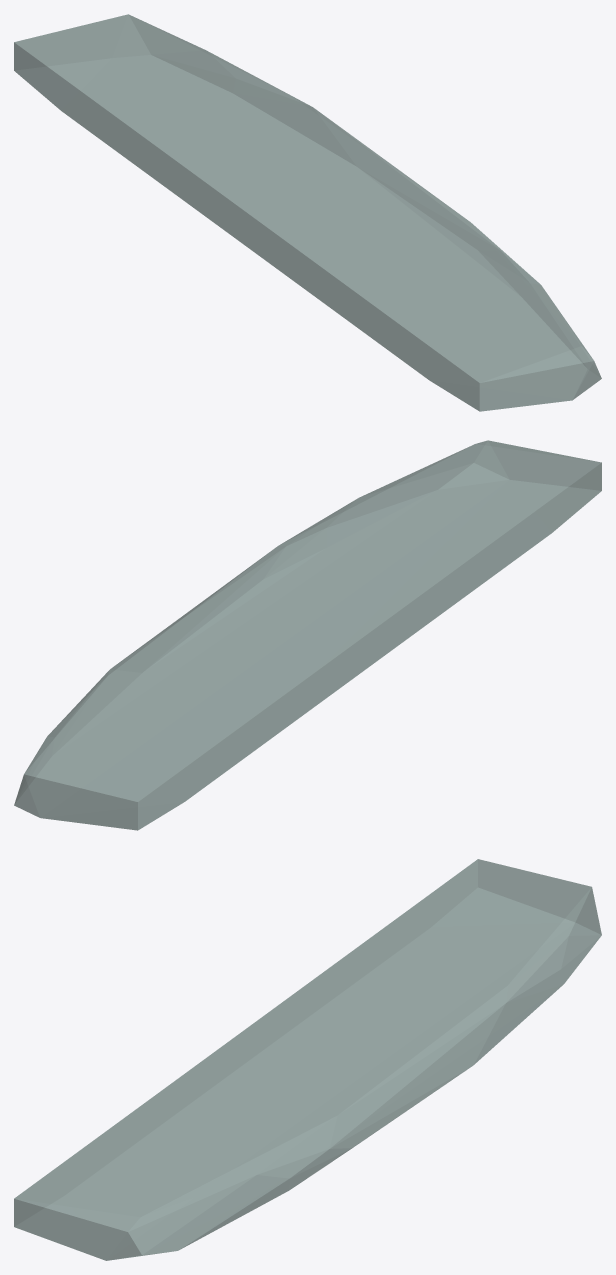
3 views of the same model, one above another, from view 1: azimuth 30°, elevation 25°; view 2: azimuth 150°, elevation 25°; view 3: azimuth 330°, elevation 25° (orthographic).
Visible parts, largest first — view 1: Shape_IndexedFaceSet.010_Shape_IndexedFaceSet.1949; view 2: Shape_IndexedFaceSet.010_Shape_IndexedFaceSet.1949; view 3: Shape_IndexedFaceSet.010_Shape_IndexedFaceSet.1949.
Boxes of the visible parts, x1=… form: Shape_IndexedFaceSet.010_Shape_IndexedFaceSet.1949: x1=14, y1=14, x2=601, y2=411; Shape_IndexedFaceSet.010_Shape_IndexedFaceSet.1949: x1=14, y1=440, x2=601, y2=830; Shape_IndexedFaceSet.010_Shape_IndexedFaceSet.1949: x1=14, y1=859, x2=601, y2=1260.
Size of the model in its own units: 0.0819 by 0.0185 by 0.3905.
